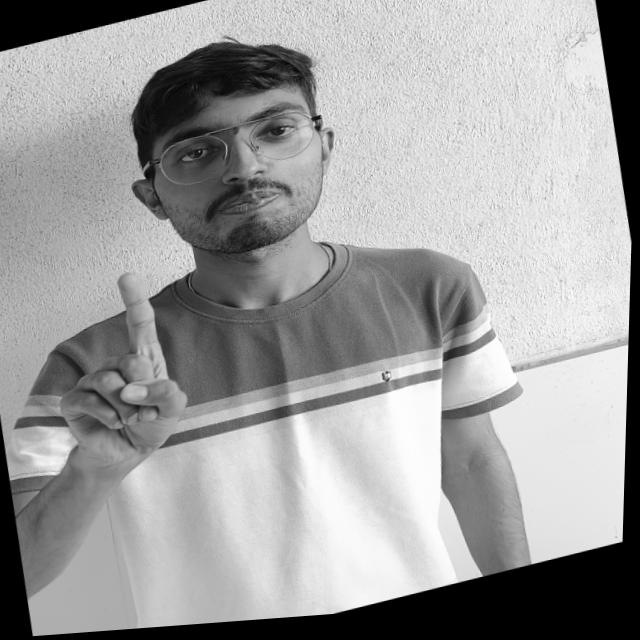Question: (2, 247, 253, 511)
